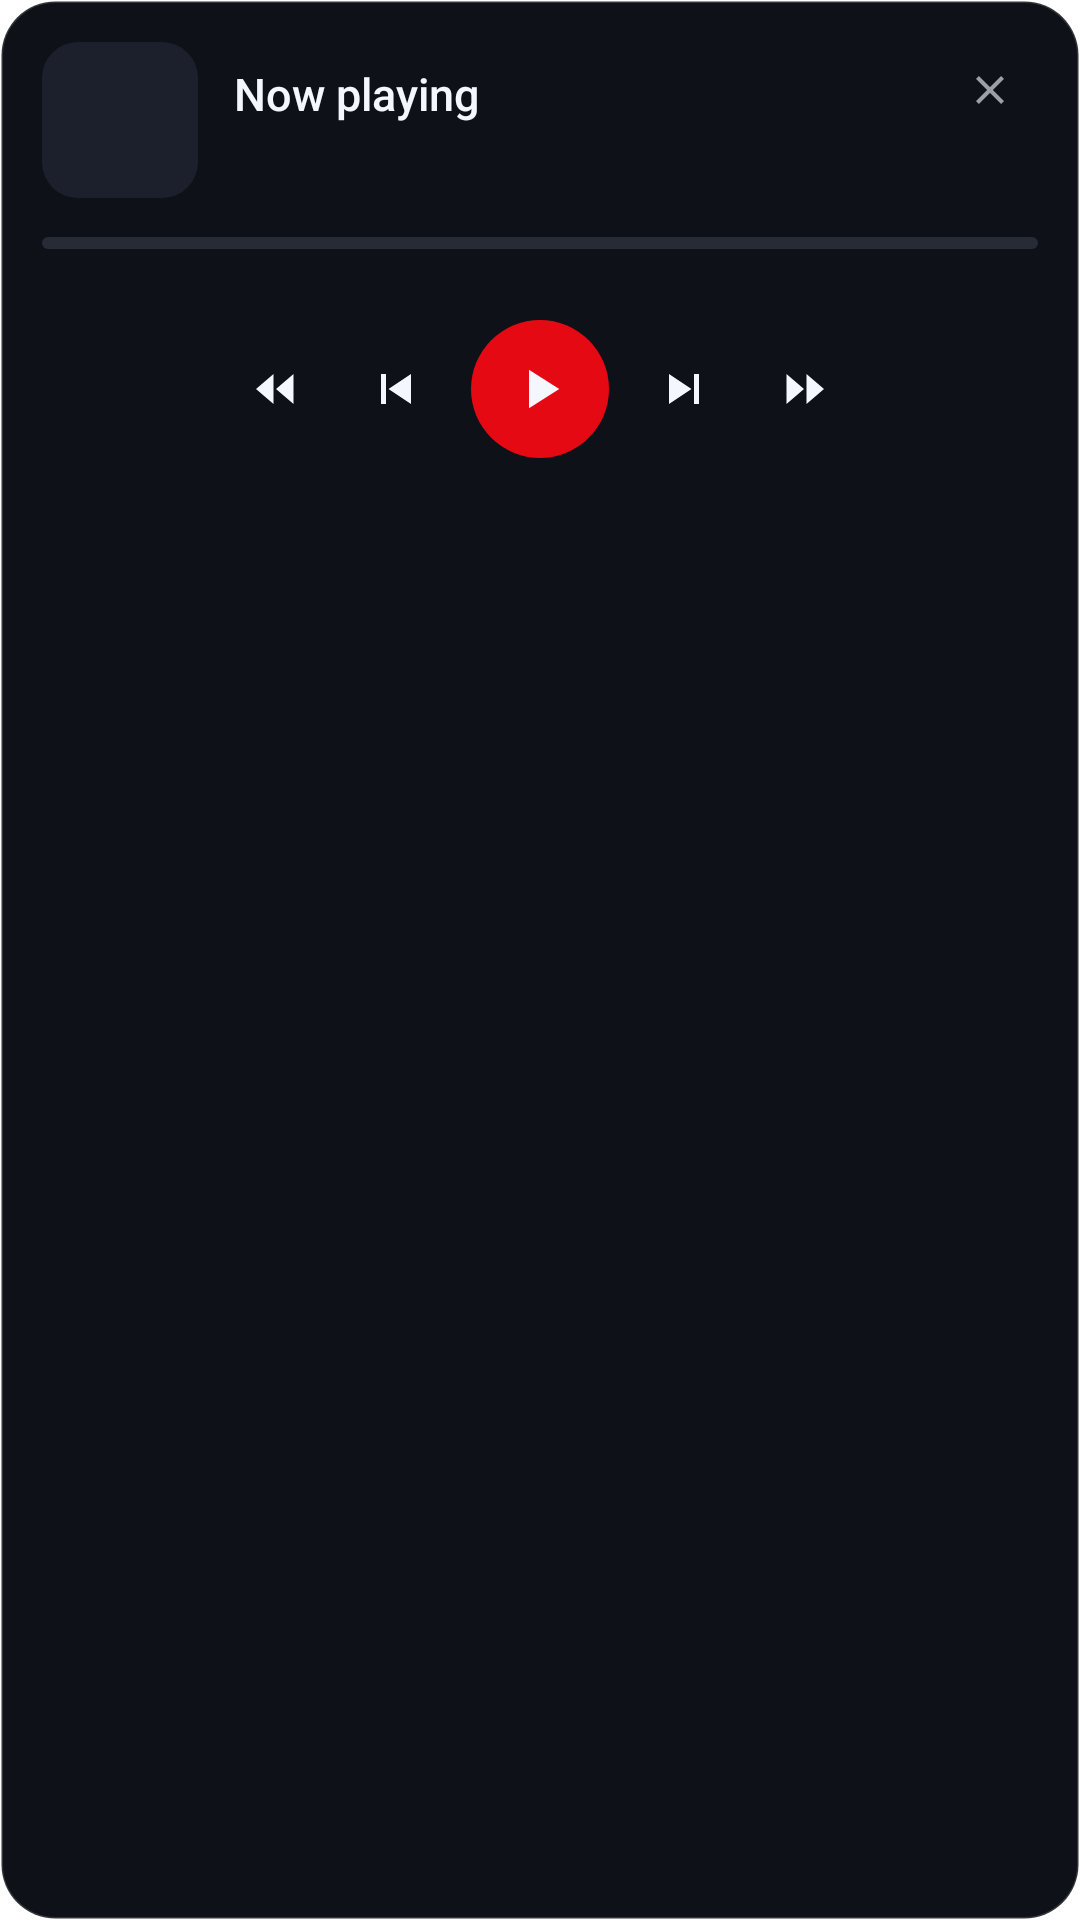

Screen size 1080×1920. Icon name, then its box in pixels as (x1, y1, x2, y2):
Back 10 seconds: (256, 374, 294, 404)
Forward 10 seconds: (786, 374, 824, 404)
Next: (669, 374, 699, 404)
Play or pause: (471, 320, 609, 458)
Previous: (381, 374, 411, 404)
